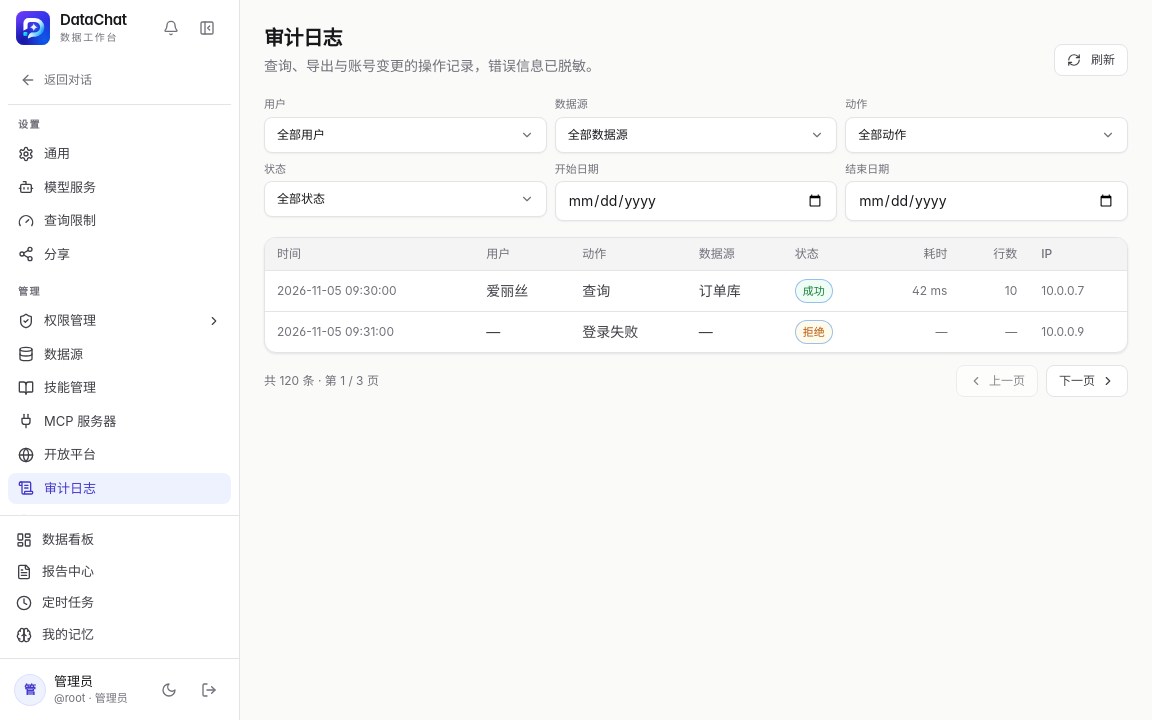
Test: AuditPage › paginates using limit and offset
The image size is (1152, 720).
Check: the text "共 120 条 · 第 1 / 3 页" is shown, box left=264, top=373, right=379, bottom=389
Click the button "下一页" at {"x": 1087, "y": 381}, box left=1046, top=365, right=1128, bottom=397
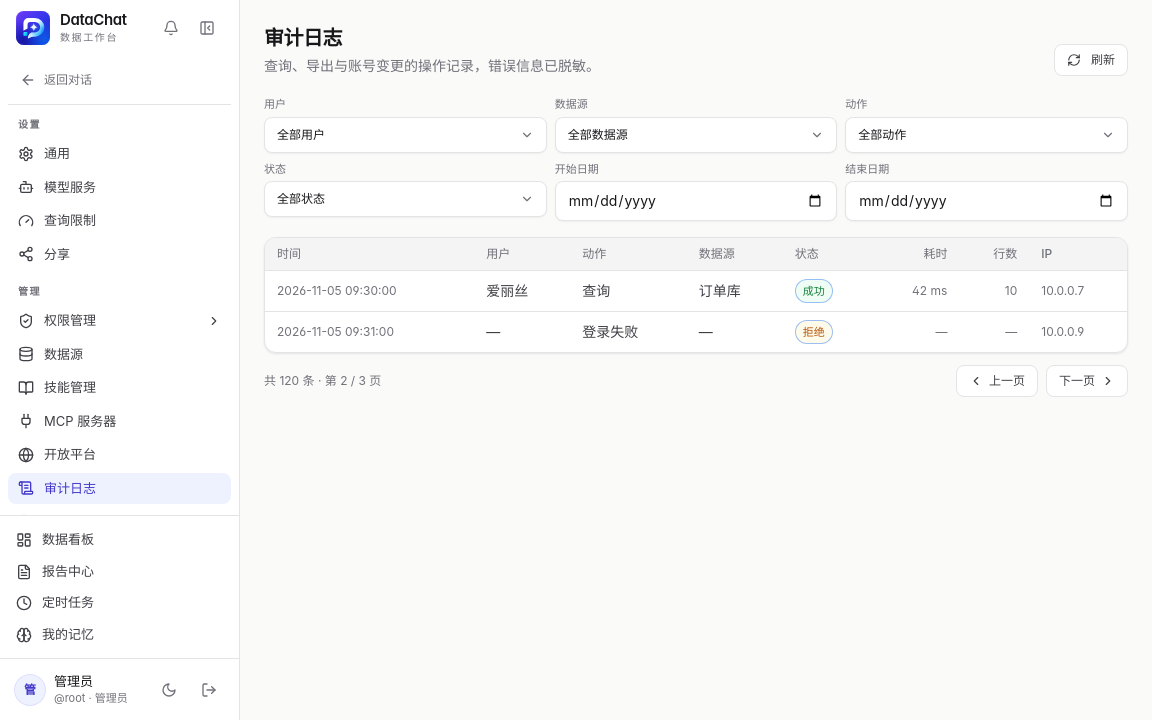
Check: the text "共 120 条 · 第 2 / 3 页" is shown, box left=264, top=373, right=381, bottom=389
Check: the button "上一页" is enabled, box left=956, top=365, right=1038, bottom=397
